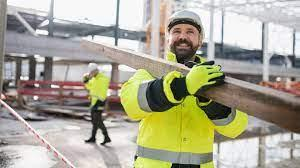Gloves: (184, 65, 221, 89)
Helmet: (167, 7, 209, 26)
Jacket: (149, 54, 214, 168)
